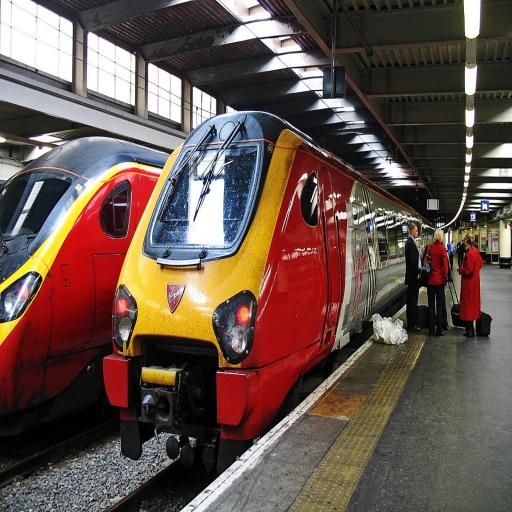platform_edge: (174, 332, 429, 512)
